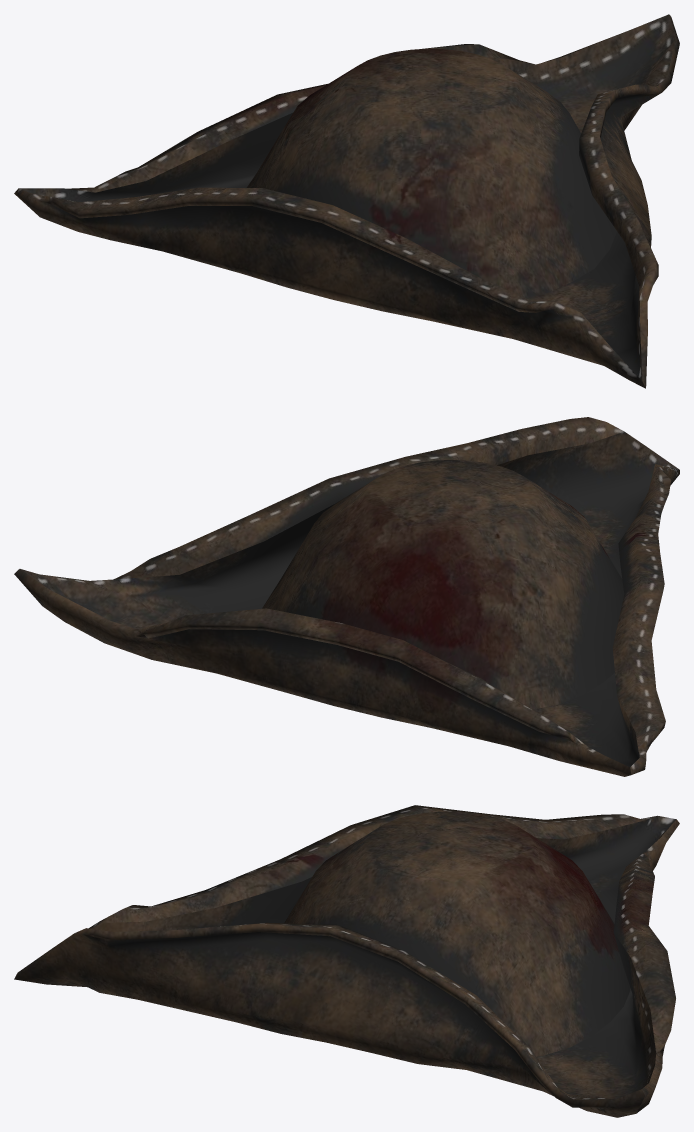
Rendered from leaderhut.fbx.
The picture shows the model from 3 angles, top to bottom: view 1: azimuth 30°, elevation 25°; view 2: azimuth 150°, elevation 25°; view 3: azimuth 270°, elevation 25°; orthographic projection. The views are drawn at different scales.
Parts seen in each view (by area): view 1: leaderhut; view 2: leaderhut; view 3: leaderhut.
Boxes of the visible parts, x1,y1,x2,y2 form: leaderhut: (14, 14, 679, 388); leaderhut: (14, 417, 679, 776); leaderhut: (14, 805, 679, 1117).
Size of the model in its own units: 0.34 by 0.0795 by 0.312.
1 material, 1 textured.
